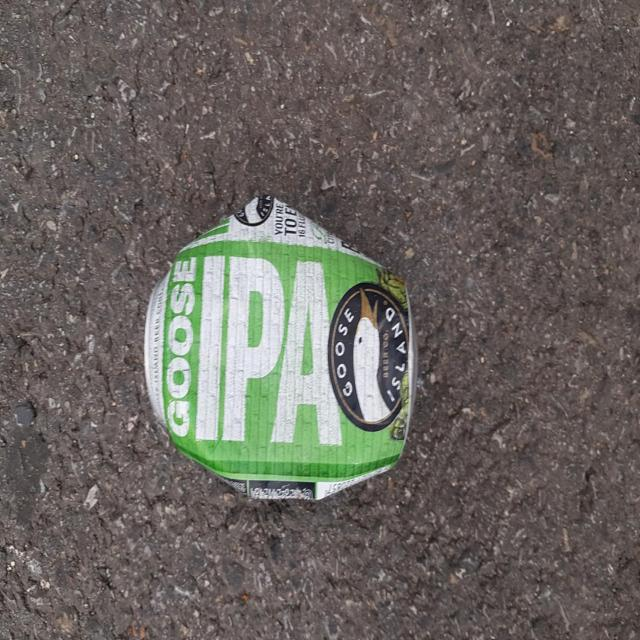can: (144, 194, 418, 499)
